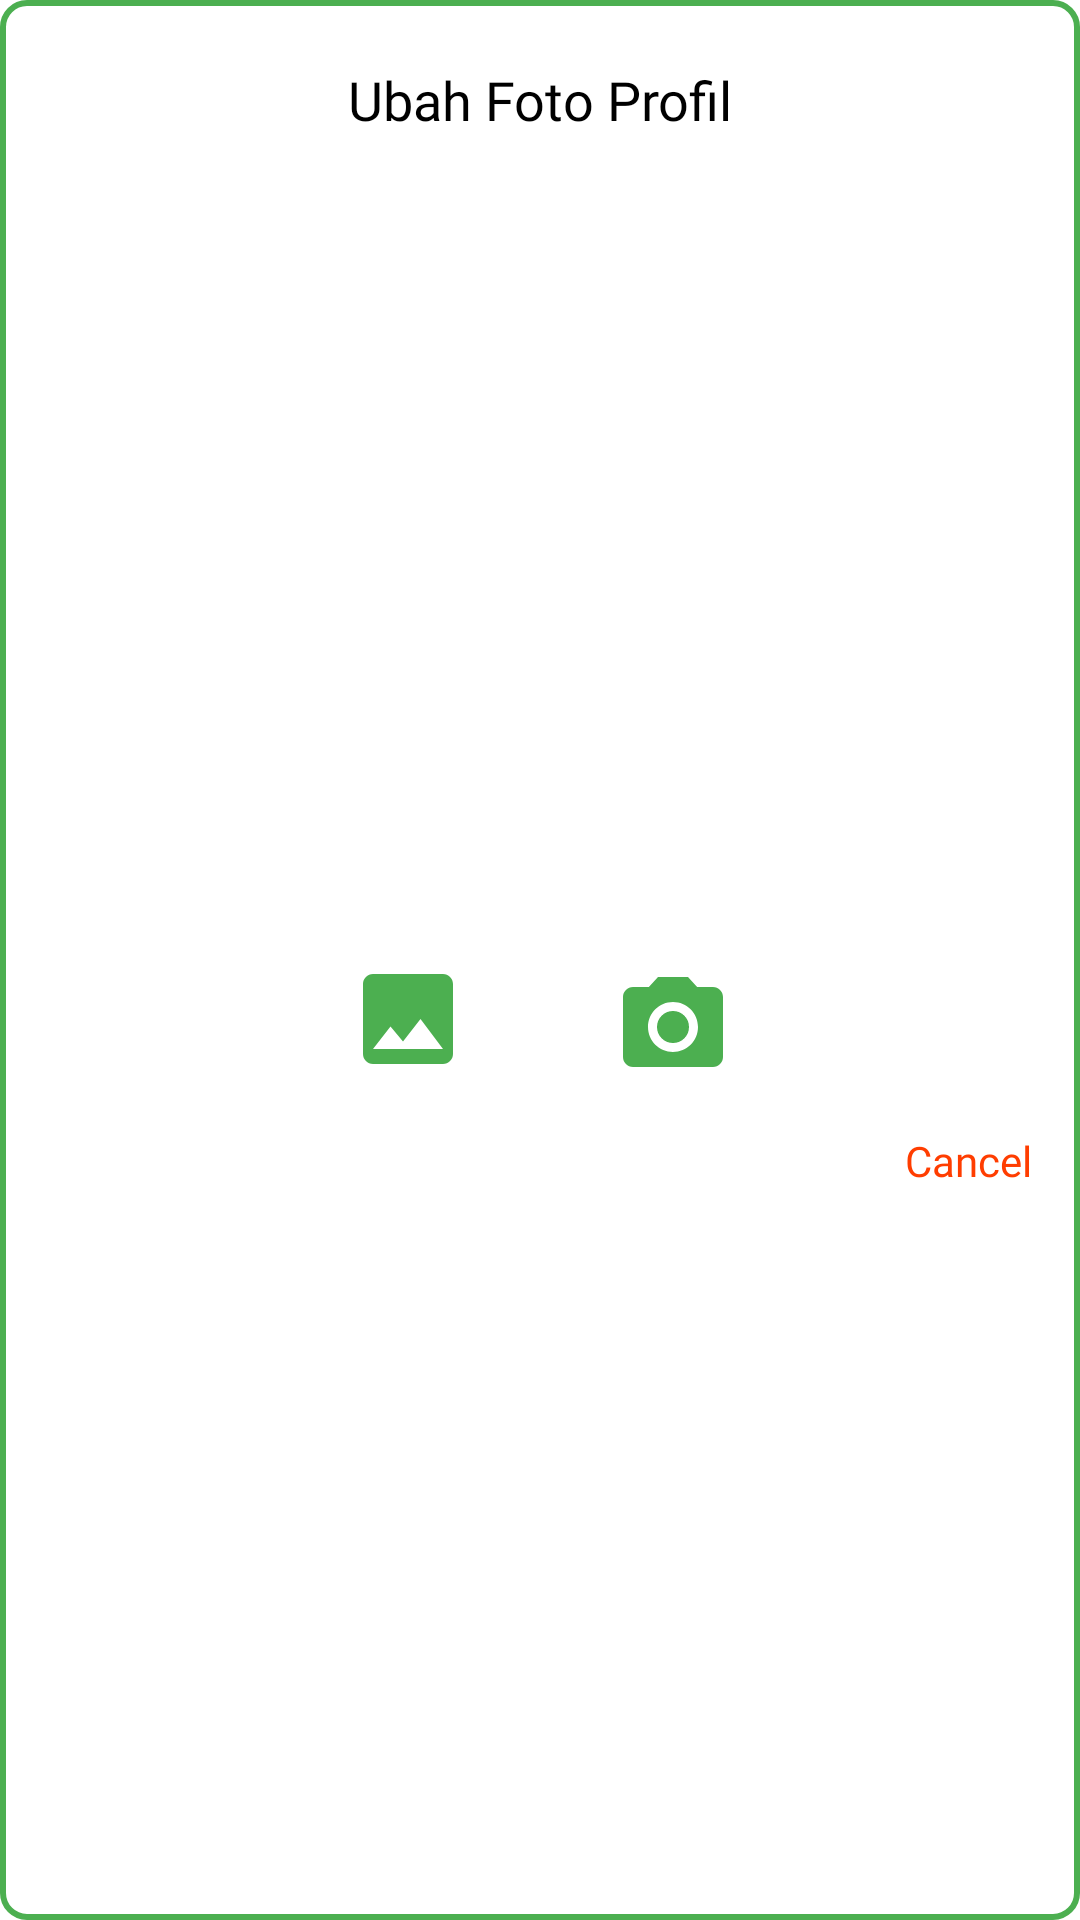

Point at icon controls on the screen. Image size 1080x1920, points as (x=x, y=y).
camera: (x=673, y=1022)
photo: (x=408, y=1019)
